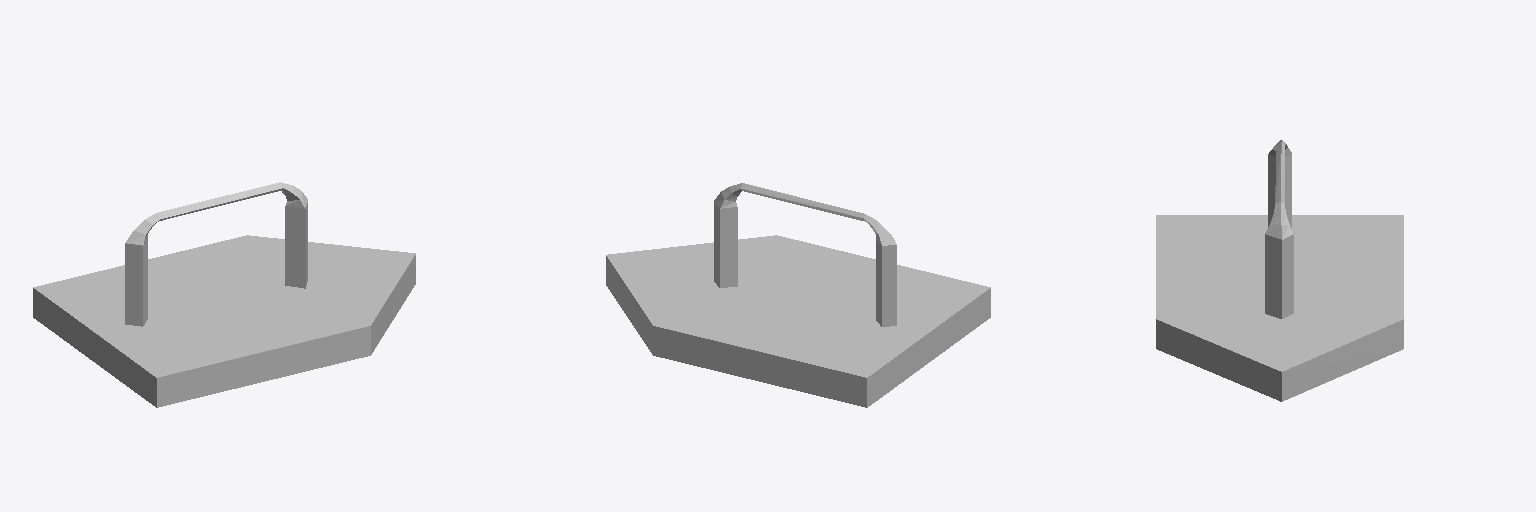
The model's file is Iron.obj.
3 views of the same model, side by side, from view 1: azimuth 30°, elevation 25°; view 2: azimuth 150°, elevation 25°; view 3: azimuth 270°, elevation 25° (orthographic).
Parts seen in each view (by area): view 1: Cube; view 2: Cube; view 3: Cube.
Boxes of the visible parts, x1,y1,x2,y2 form: Cube: [33, 182, 415, 407]; Cube: [606, 183, 990, 407]; Cube: [1156, 140, 1403, 401].
Bounding box in the file's own units: 3.01 × 1.2 × 2.